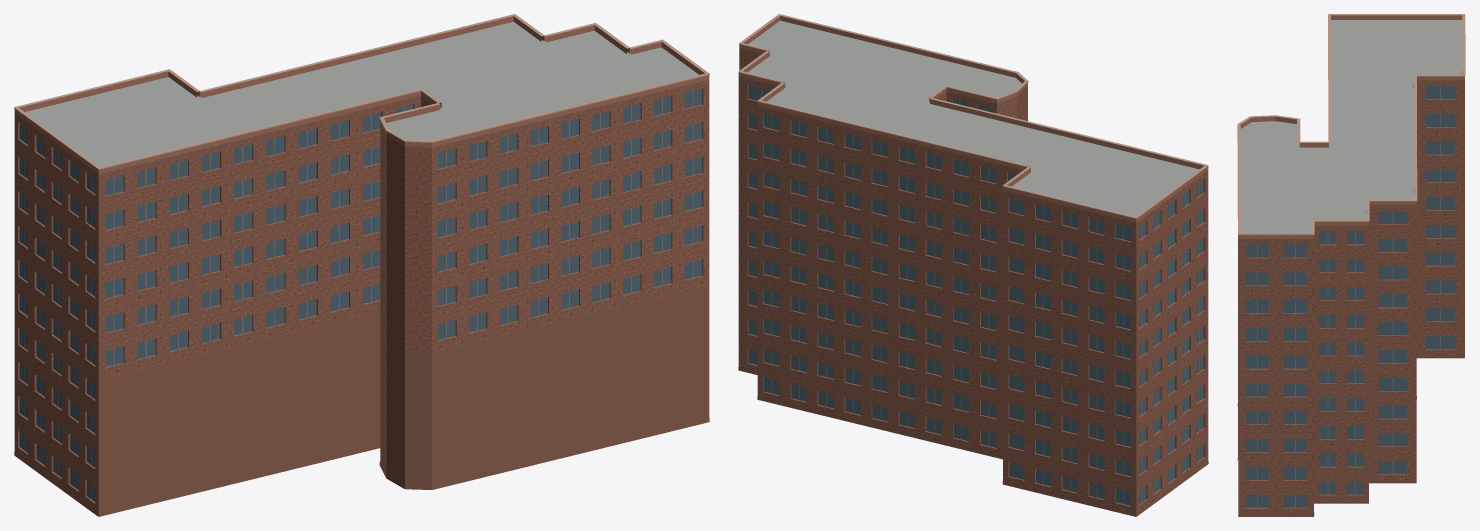
The picture shows the model from 3 angles, left to right: view 1: azimuth 30°, elevation 25°; view 2: azimuth 150°, elevation 25°; view 3: azimuth 270°, elevation 25°; orthographic projection. The views are drawn at different scales.
Visible parts, largest first — view 1: adamSchall__wall, adamSchall__base, adamSchall__glass, adamSchall__roof, adamSchall__parapet, adamSchall__trim, adamSchall__frame; view 2: adamSchall__wall, adamSchall__glass, adamSchall__roof, adamSchall__parapet, adamSchall__trim, adamSchall__frame, adamSchall__base; view 3: adamSchall__wall, adamSchall__roof, adamSchall__glass, adamSchall__trim, adamSchall__parapet, adamSchall__frame, adamSchall__base.
Boxes of the visible parts, x1,y1,x2,y2 form: adamSchall__wall: (14,80,709,516); adamSchall__base: (14,285,709,516); adamSchall__glass: (19,88,702,501); adamSchall__roof: (25,22,698,166); adamSchall__parapet: (14,16,709,174); adamSchall__trim: (14,14,709,169); adamSchall__frame: (24,90,693,499); adamSchall__wall: (738,48,1208,516); adamSchall__glass: (748,85,1203,505); adamSchall__roof: (748,20,1198,216); adamSchall__parapet: (738,15,1208,222); adamSchall__trim: (738,14,1208,218); adamSchall__frame: (761,88,1199,503); adamSchall__base: (738,367,1208,516); adamSchall__wall: (1238,80,1464,513); adamSchall__roof: (1240,20,1462,233); adamSchall__glass: (1246,86,1455,507); adamSchall__trim: (1237,14,1465,235); adamSchall__parapet: (1238,15,1464,238); adamSchall__frame: (1257,86,1440,507); adamSchall__base: (1237,348,1464,516).
Bounding box in the file's own units: 61.24 × 36.6 × 26.78.
7 materials, 1 textured.
